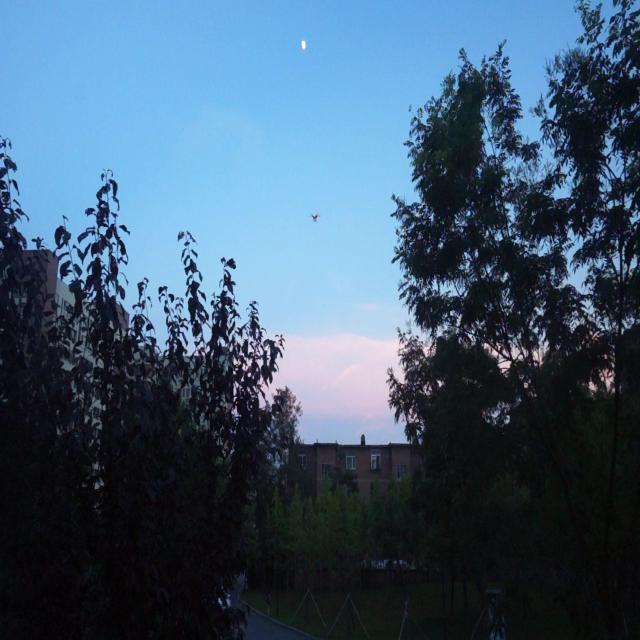drone: (307, 205, 325, 230)
